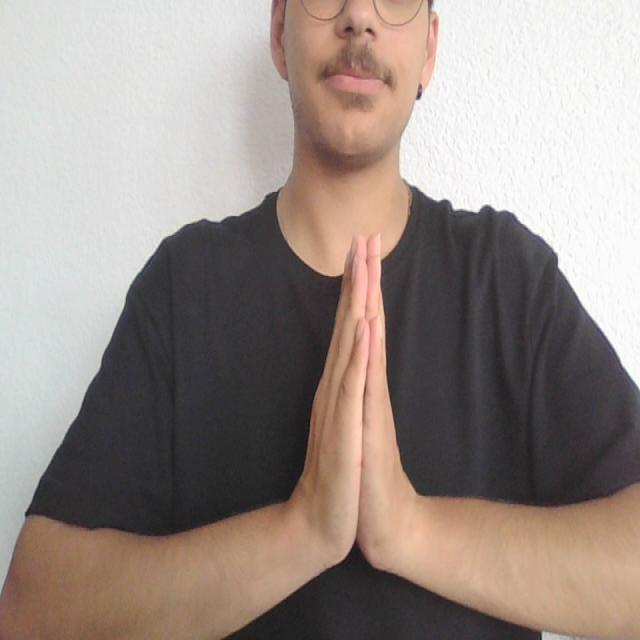Ozur-Dilemek: (290, 222, 420, 588)
